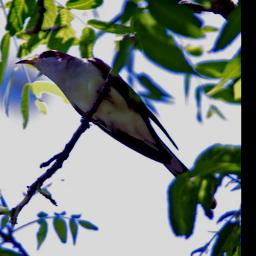Cuckoo: (15, 49, 217, 210)
